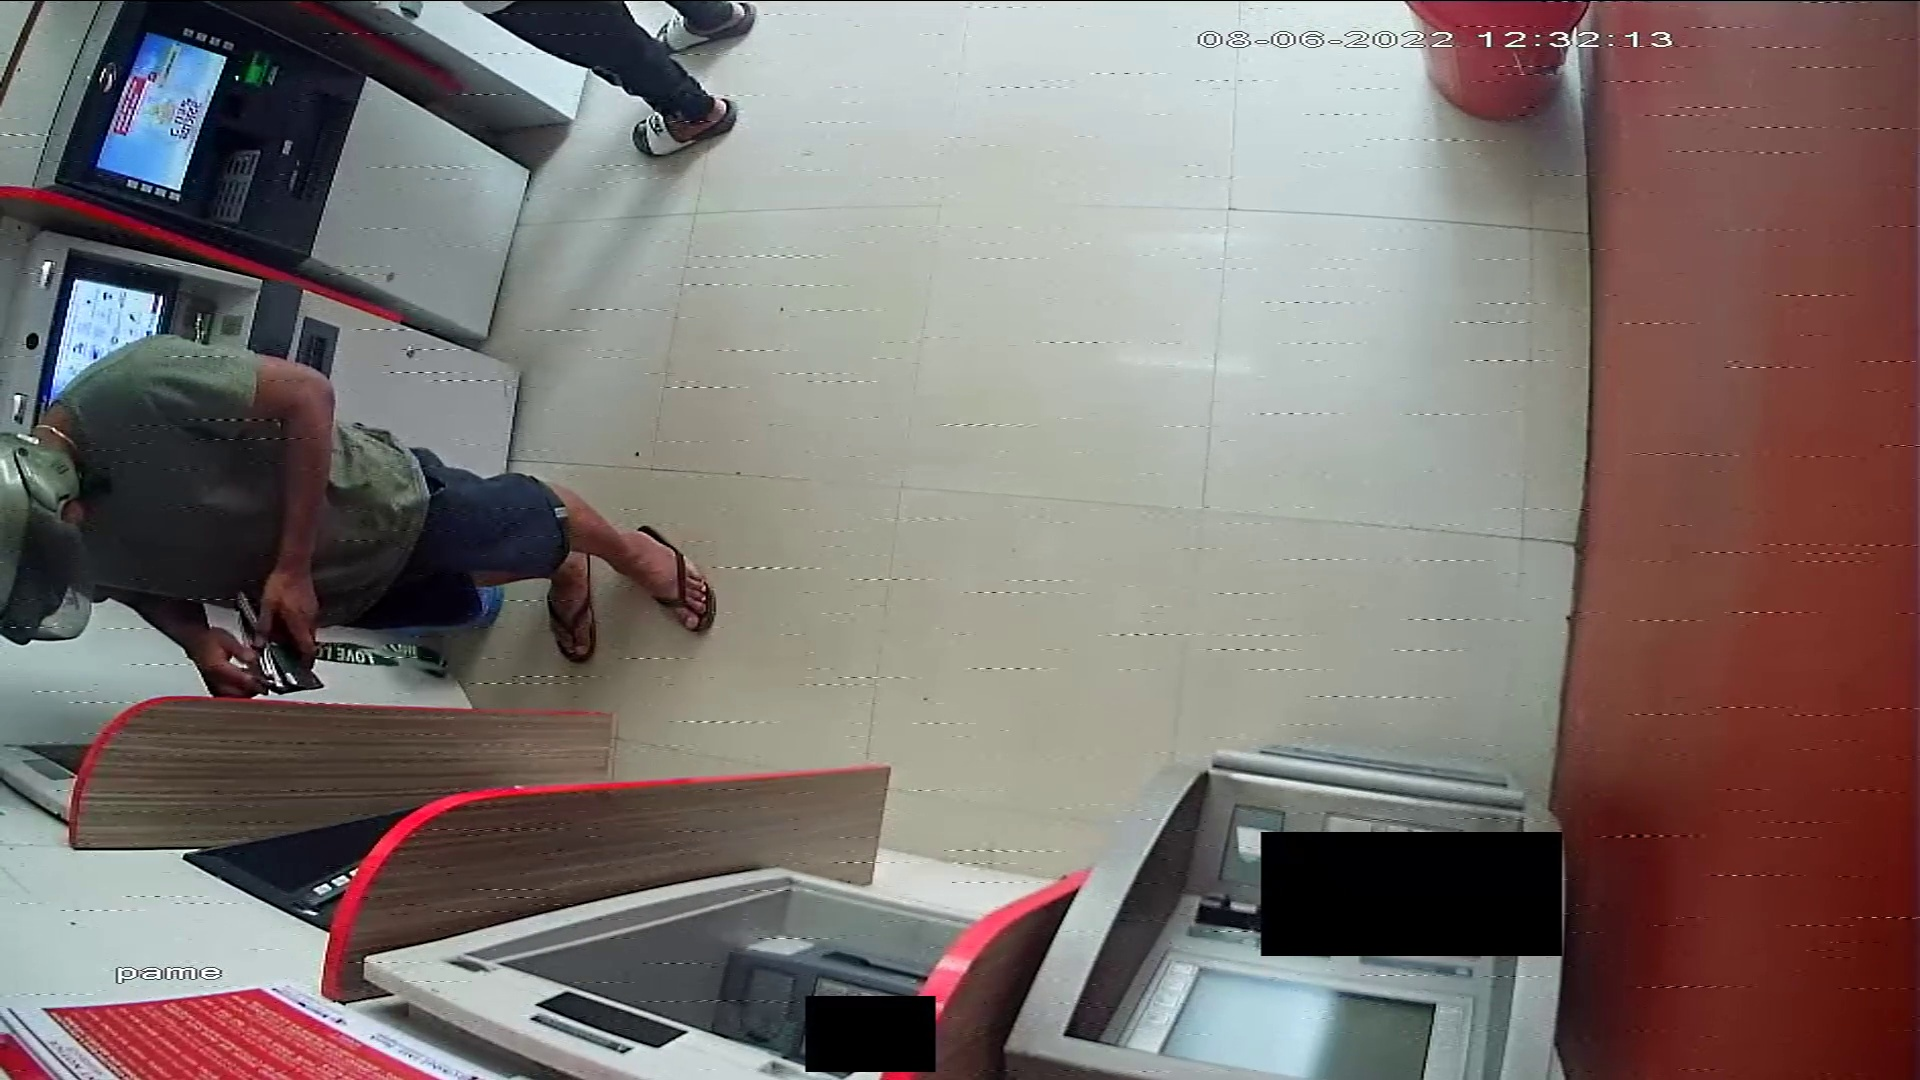helmet: (1, 432, 97, 646)
person: (1, 338, 717, 696)
